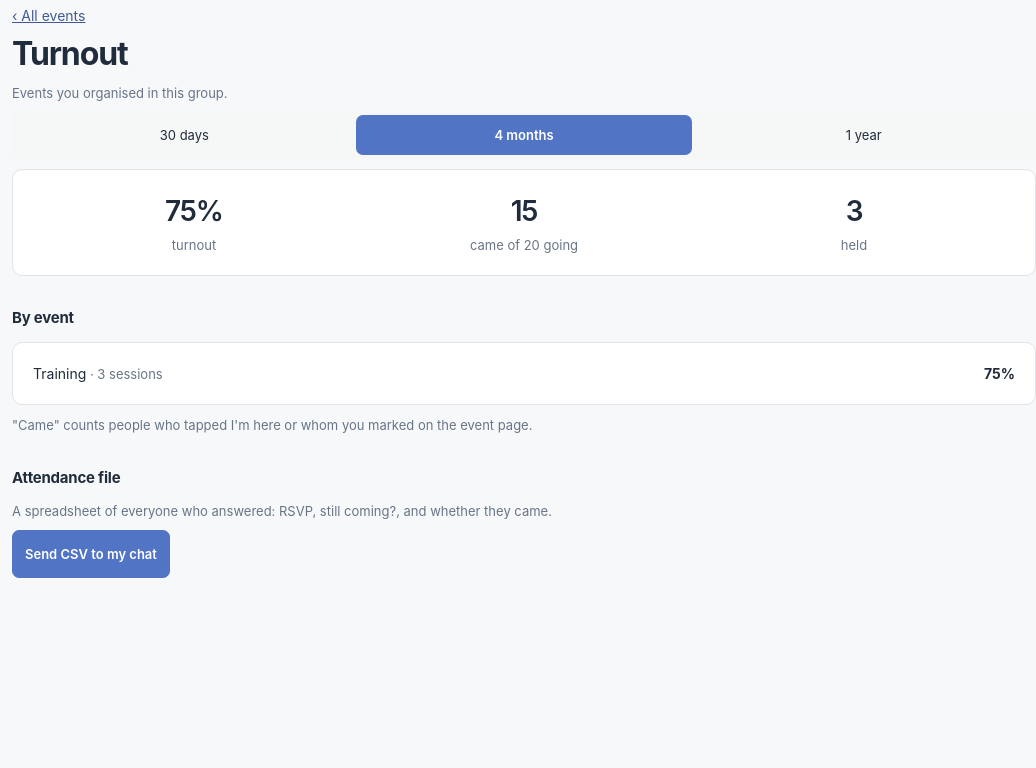
turnout page › shows turnout, changes the period and sends the CSV
Expected: the text "Training" is shown, [33,365,86,382]
Click the button "1 year" at (864, 135), box [695,115,1032,155]
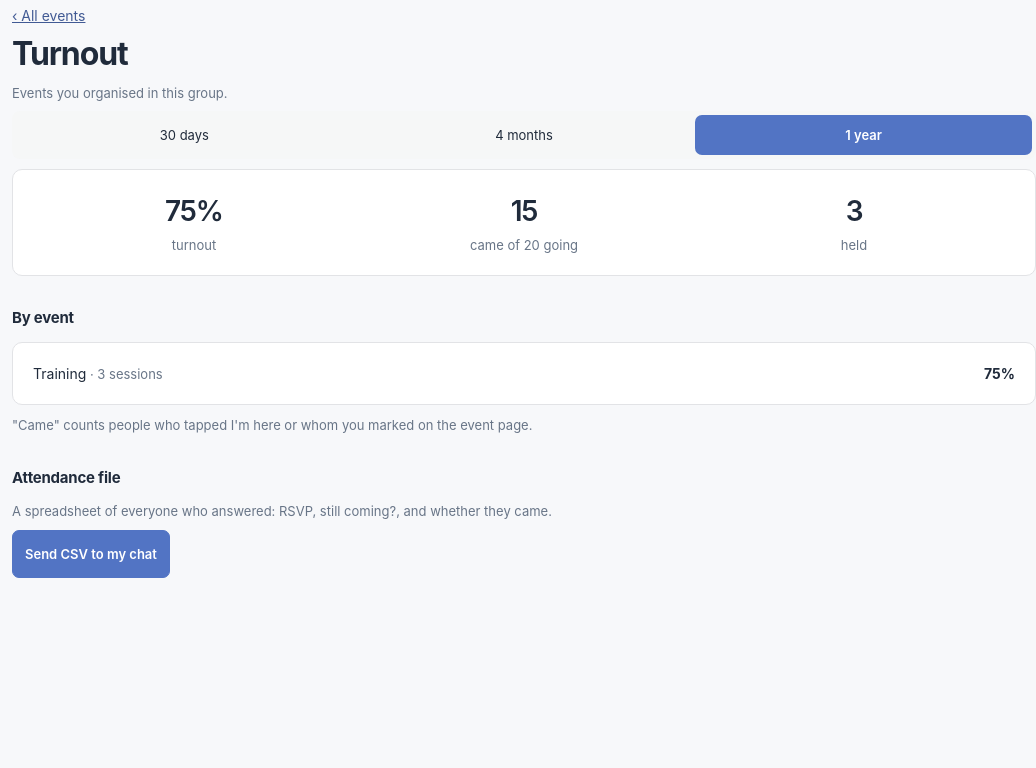
Click the button "Send CSV to my chat" at (91, 554), box [12,530,170,578]
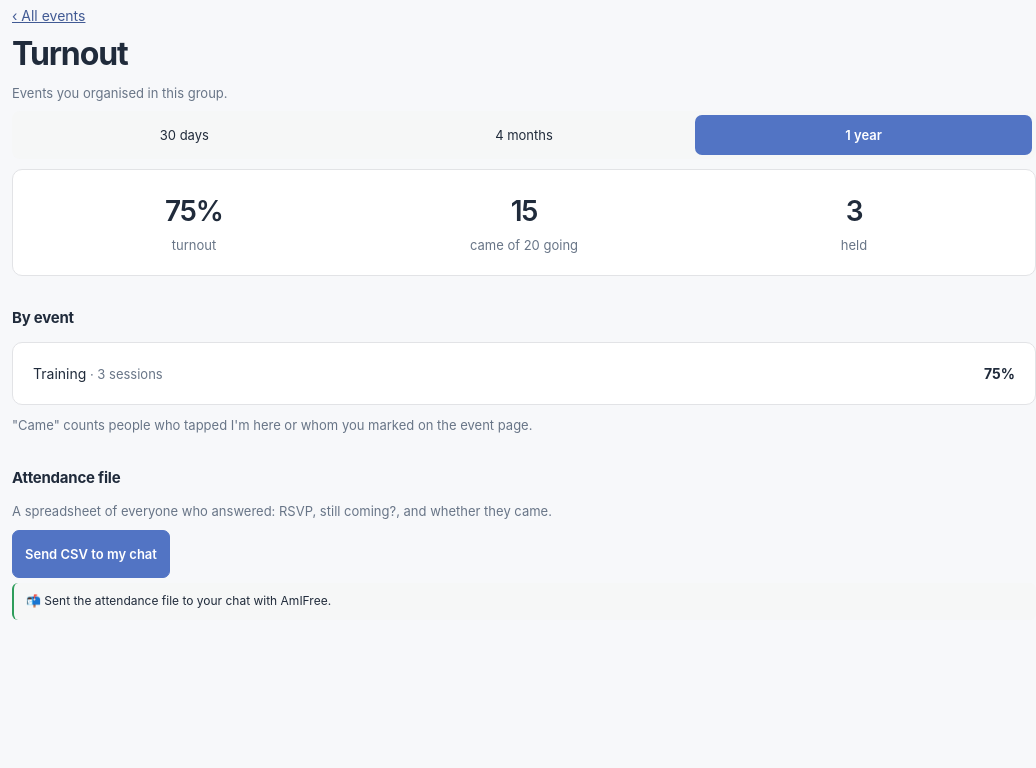
Expected: the text "📬 Sent the attendance file to your chat with AmIFree." is shown, [12,583,1035,620]
